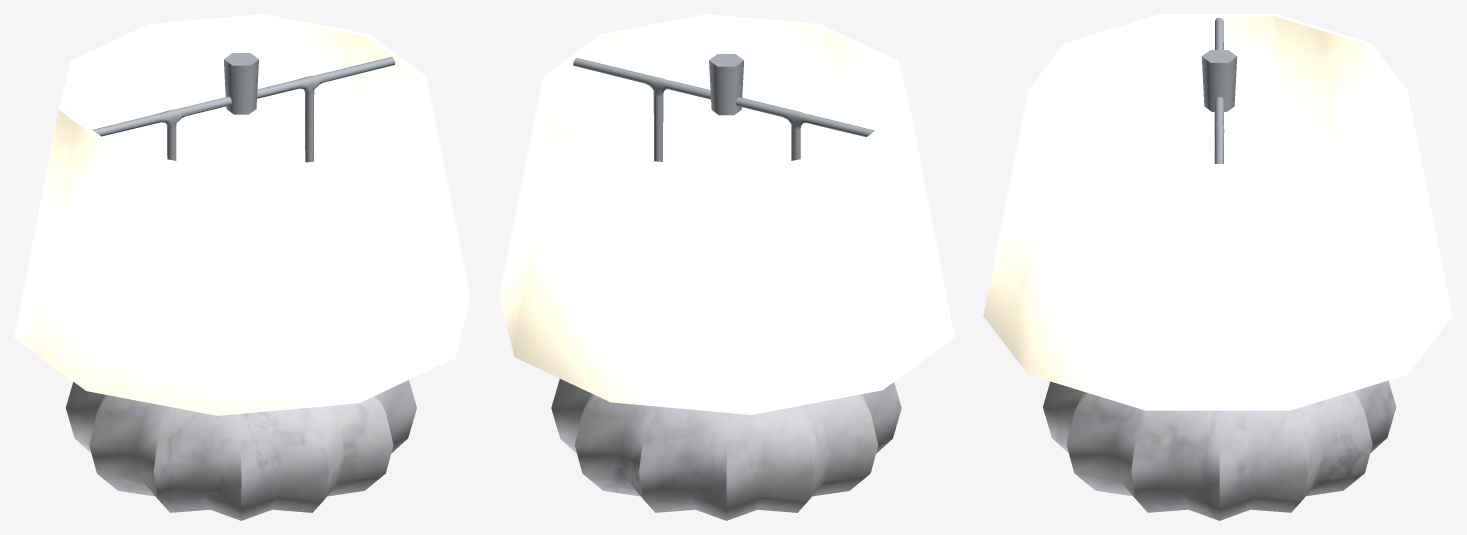
File: Lights_Table_Lamps_9.fbx
3 views of the same model, side by side, from view 1: azimuth 30°, elevation 25°; view 2: azimuth 150°, elevation 25°; view 3: azimuth 270°, elevation 25° (orthographic).
Parts seen in each view (by area): view 1: Cylinder.030; view 2: Cylinder.030; view 3: Cylinder.030.
Part boxes in pixels (x1,y1,x2,y2): Cylinder.030: (14,14,470,520); Cylinder.030: (499,14,954,520); Cylinder.030: (983,14,1452,520).
Size of the model in its own units: 13.98 by 14.25 by 14.7.
